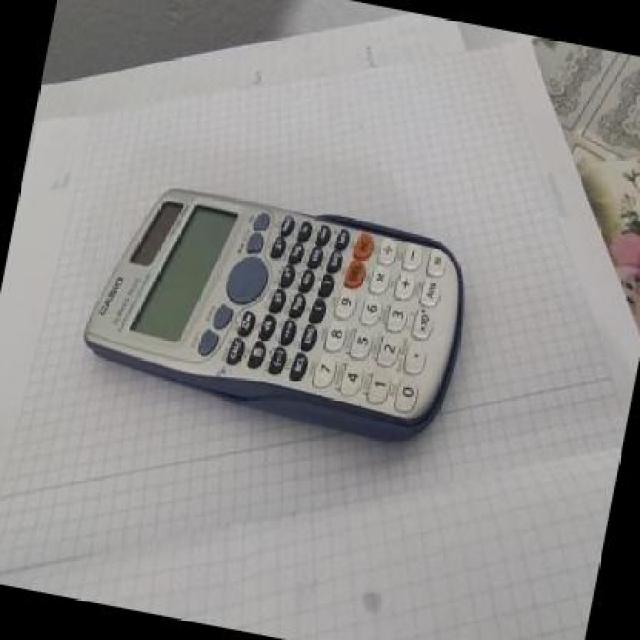Calculator: (70, 166, 484, 454)
